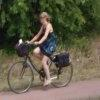bicycles: (7, 40, 75, 94)
